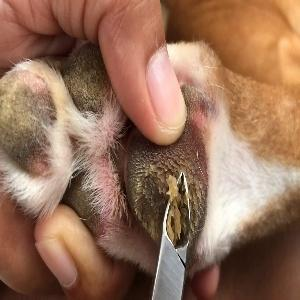keratosis: (124, 142, 209, 255)
